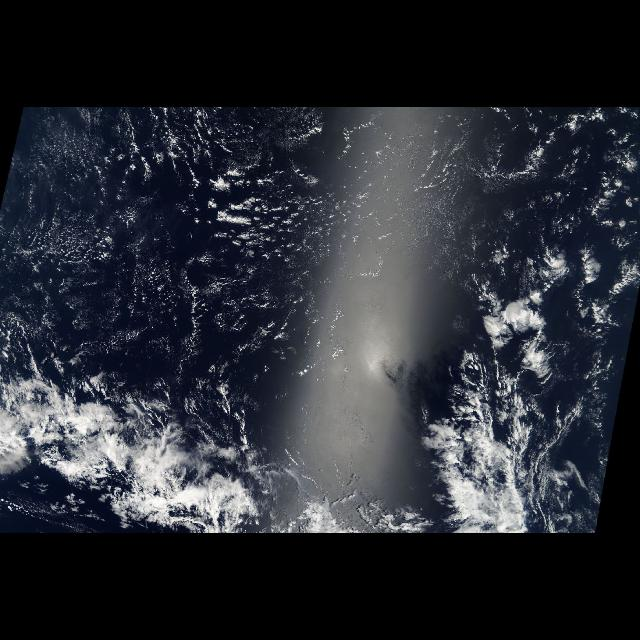Gravel: (227, 144, 423, 396), (439, 113, 635, 314)
Sugar: (14, 117, 164, 329)
